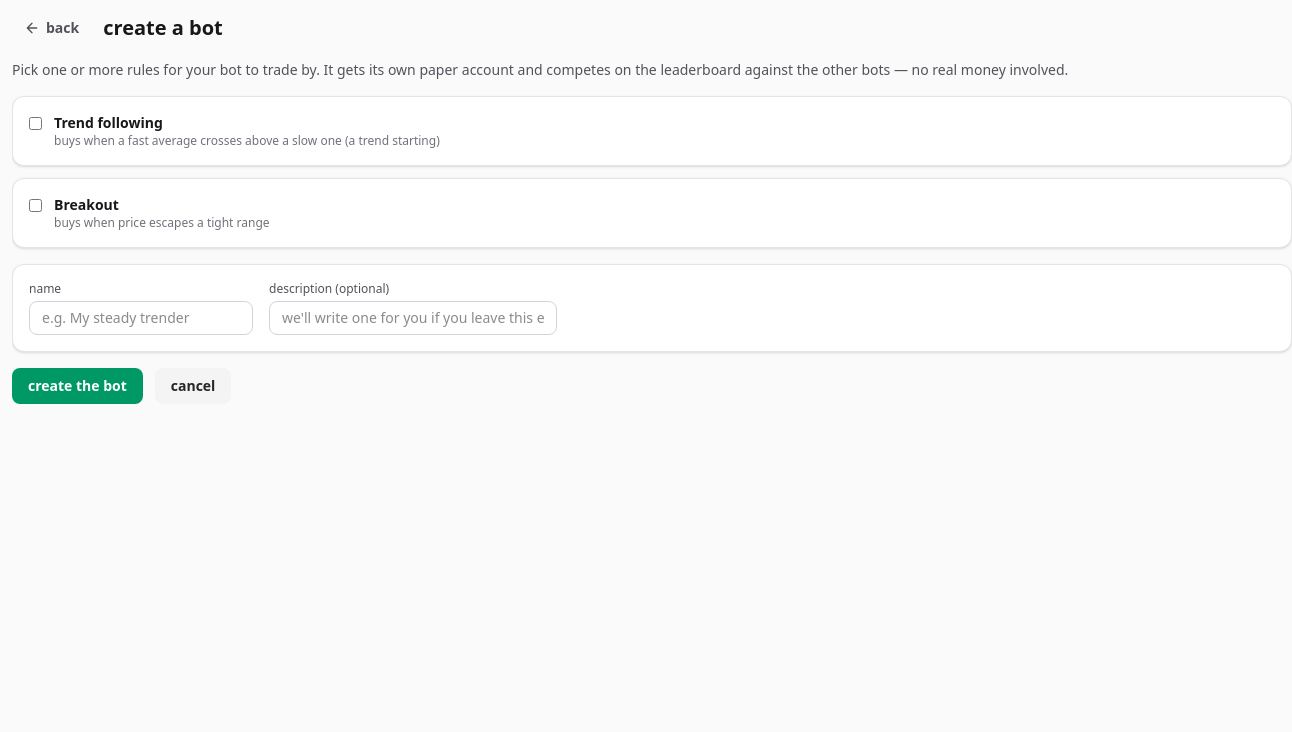
Test: BotBuilderScreen › flags an invalid numeric setting live and blocks saving
The width and height of the screenshot is (1292, 732).
Click the checkbox labelled "Trend following". click: (36, 124)
box: [29,117,42,130]
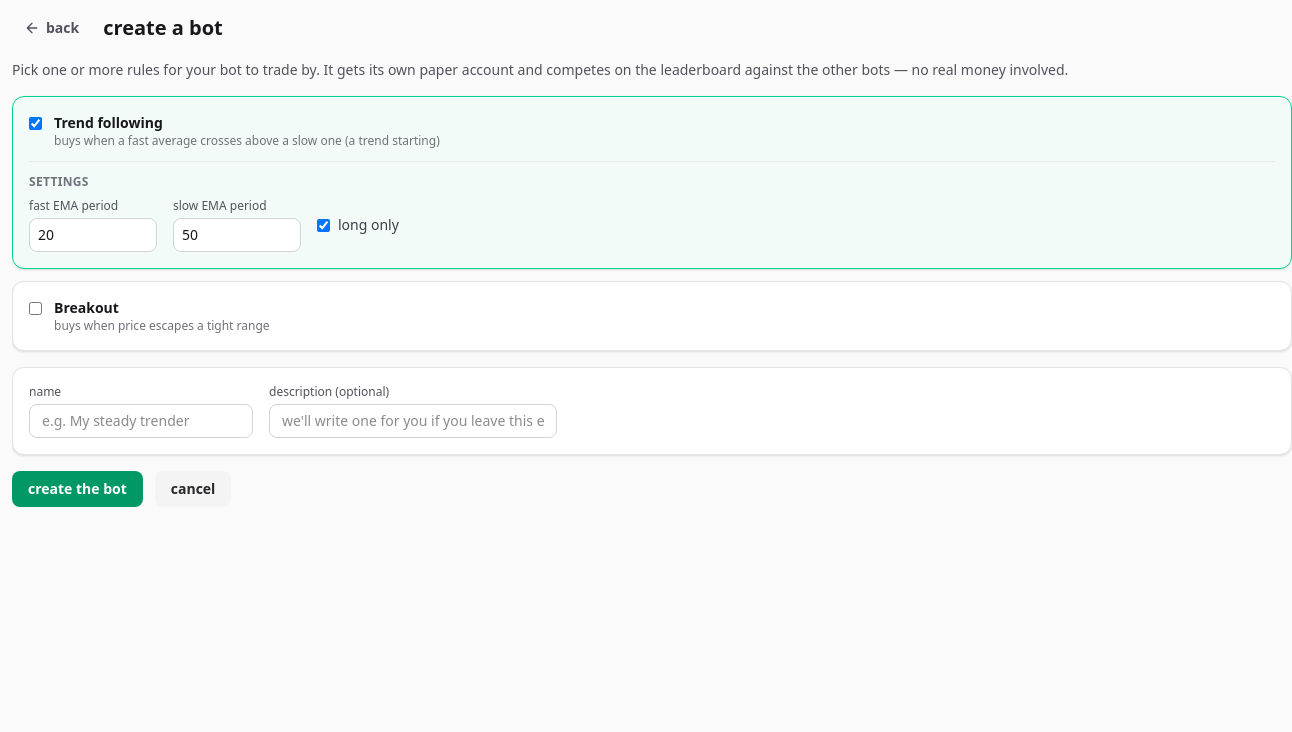
Clear the number field showing "20". click: (93, 235)
box: [29,218,157,252]
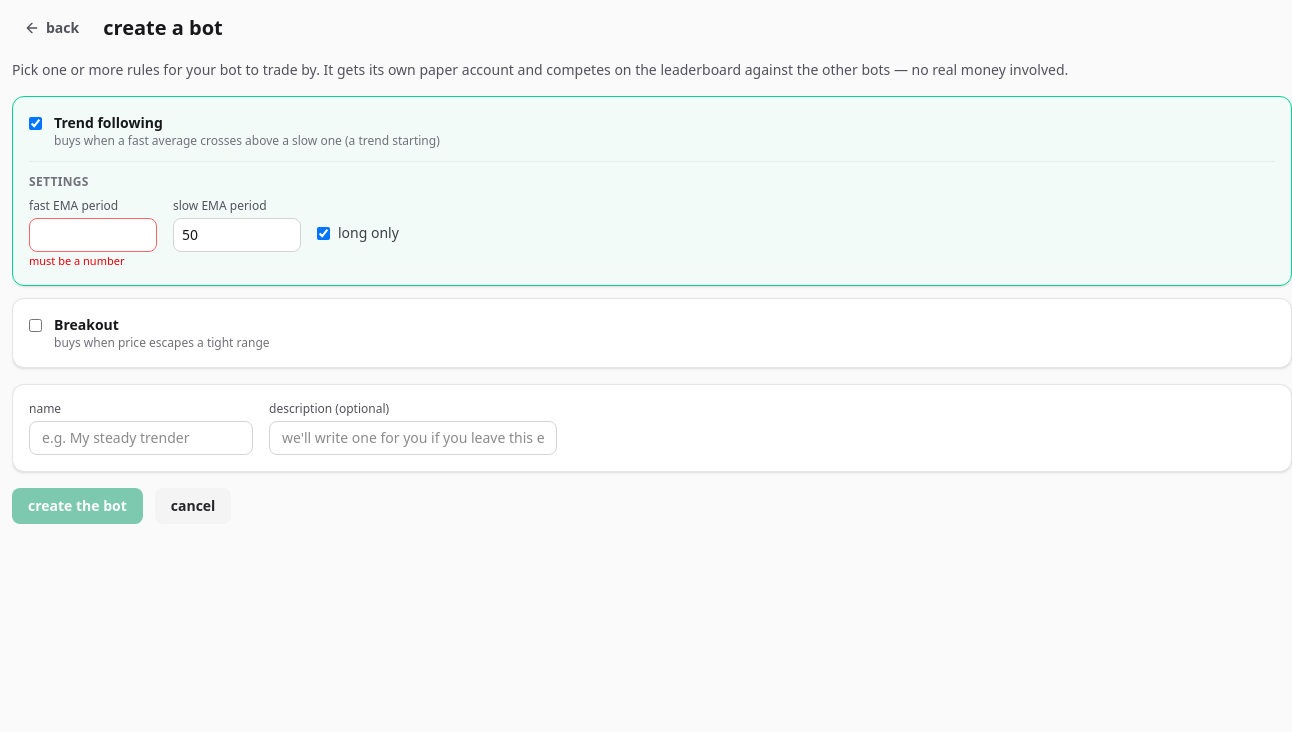
expect the text "must be a number" is shown: met, box [29,253,124,268]
expect the button "create the bot" is disabled: met, box [12,488,143,524]
// Restoring a valid value clears the block.
Type "15" into the number field showing "20". click: (93, 235)
box: [29,218,157,252]
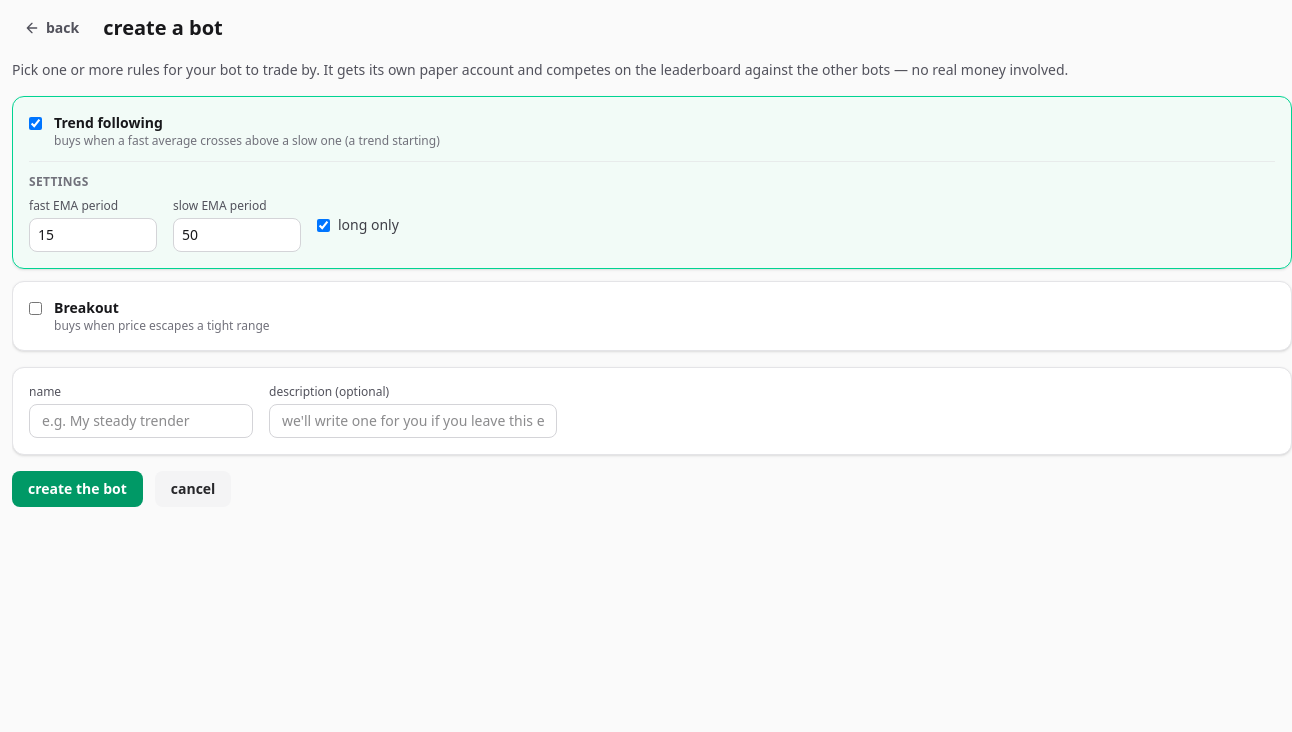
expect the text "must be a number" is gone: met
expect the button "create the bot" is enabled: met, box [12,471,143,507]
